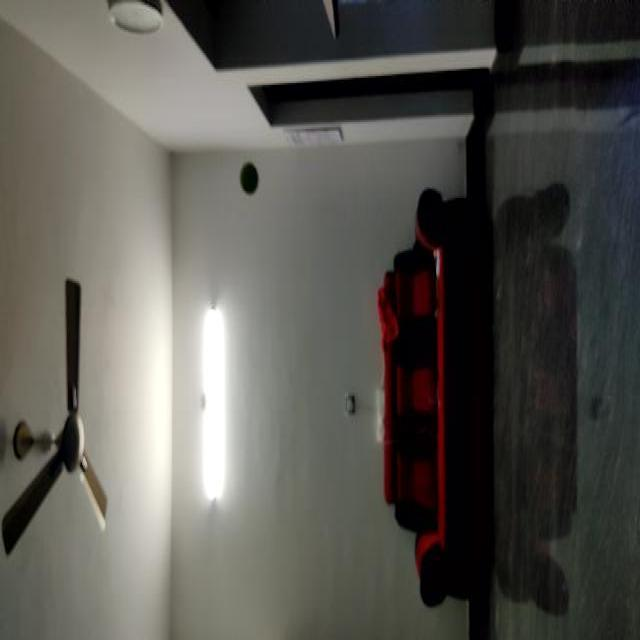tennis-ball: (240, 160, 259, 196)
